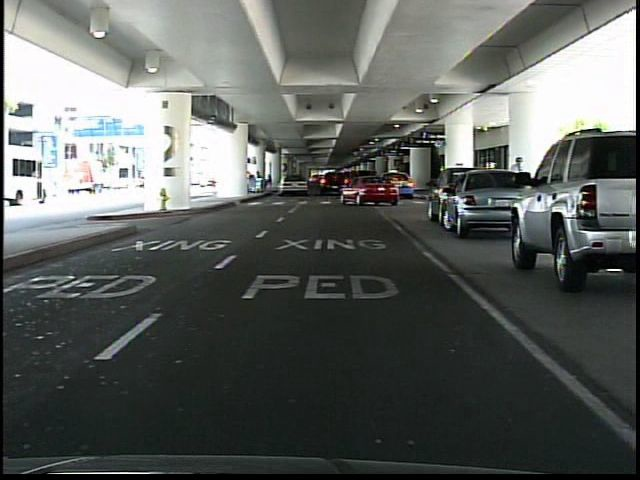person: (503, 152, 529, 231)
